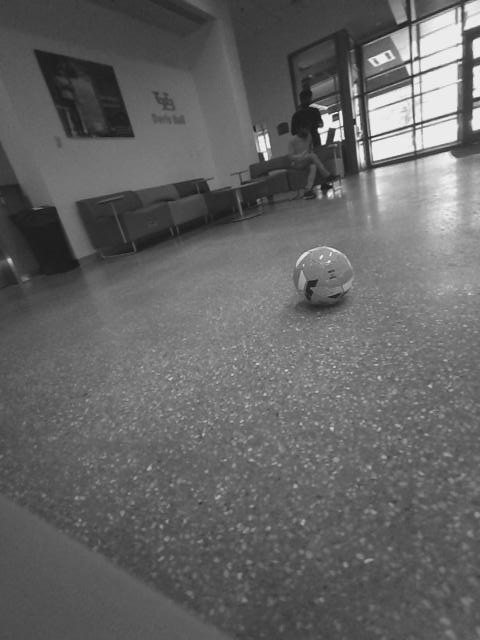ball: (289, 243, 357, 310)
